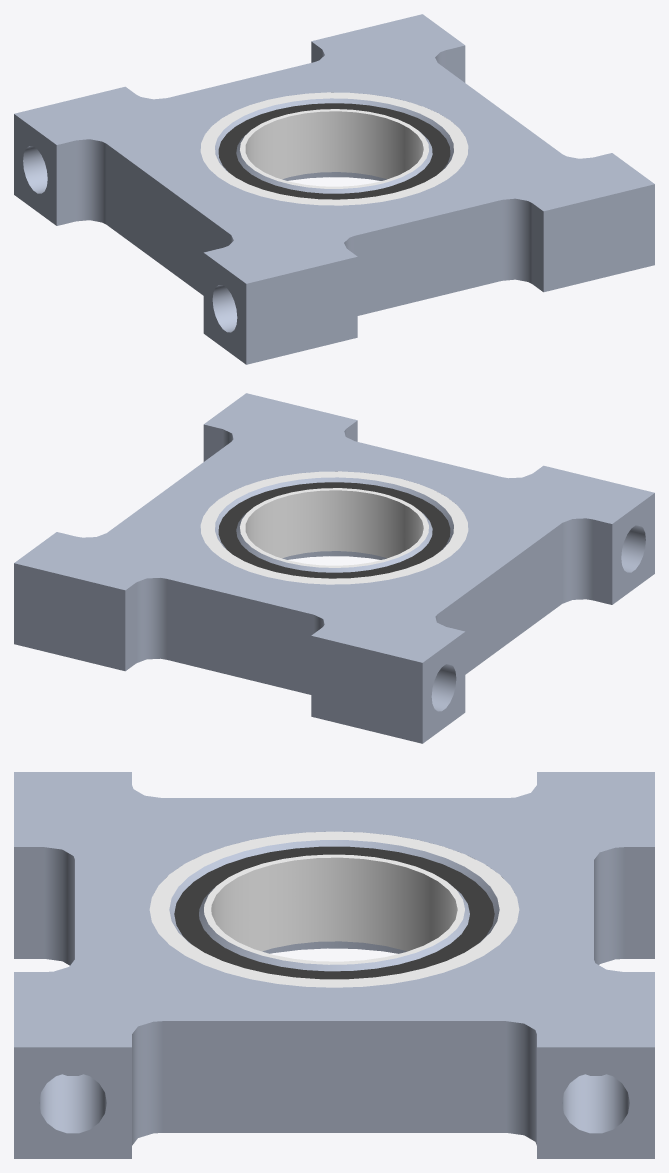
The model's file is ROB-12397.obj.
3 views of the same model, one above another, from view 1: azimuth 30°, elevation 25°; view 2: azimuth 150°, elevation 25°; view 3: azimuth 270°, elevation 25° (orthographic). The views are drawn at different scales.
Parts seen in each view (by area): view 1: mesh 1 RO, mesh 2 Boss-Extrude2, mesh 3 Boss-Extrude4; view 2: mesh 1 RO, mesh 2 Boss-Extrude2, mesh 3 Boss-Extrude4; view 3: mesh 1 RO, mesh 2 Boss-Extrude2, mesh 3 Boss-Extrude4.
Part boxes in pixels (box(x1,y1,x2,y2)): mesh 1 RO: box(14, 14, 654, 364); mesh 2 Boss-Extrude2: box(200, 92, 468, 205); mesh 3 Boss-Extrude4: box(218, 103, 450, 199); mesh 1 RO: box(14, 393, 654, 743); mesh 2 Boss-Extrude2: box(200, 471, 468, 584); mesh 3 Boss-Extrude4: box(218, 482, 450, 578); mesh 1 RO: box(14, 772, 654, 1158); mesh 2 Boss-Extrude2: box(149, 831, 519, 987); mesh 3 Boss-Extrude4: box(174, 846, 494, 979).
Size of the model in its own units: 0.0335 by 0.00635 by 0.033.
